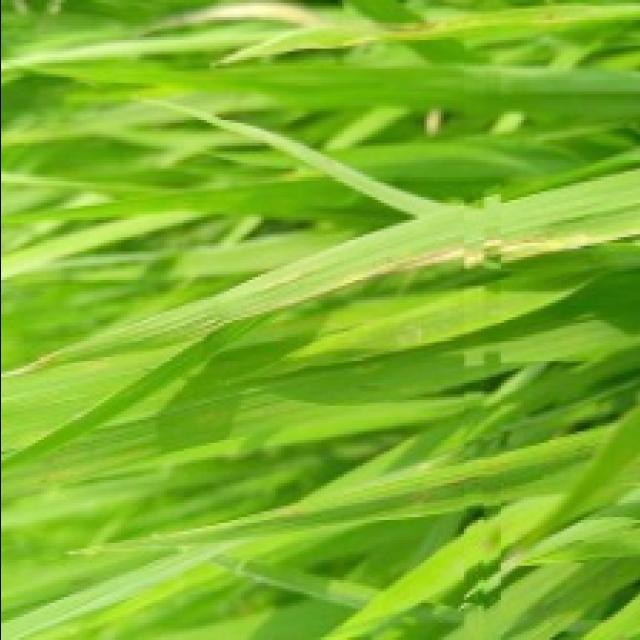Unhealthy: (374, 232, 640, 274)
